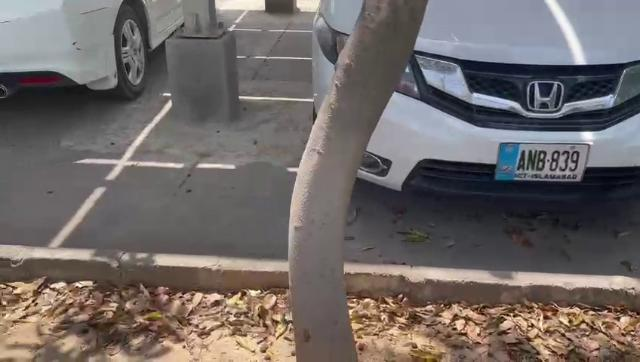plate: (492, 139, 592, 185)
